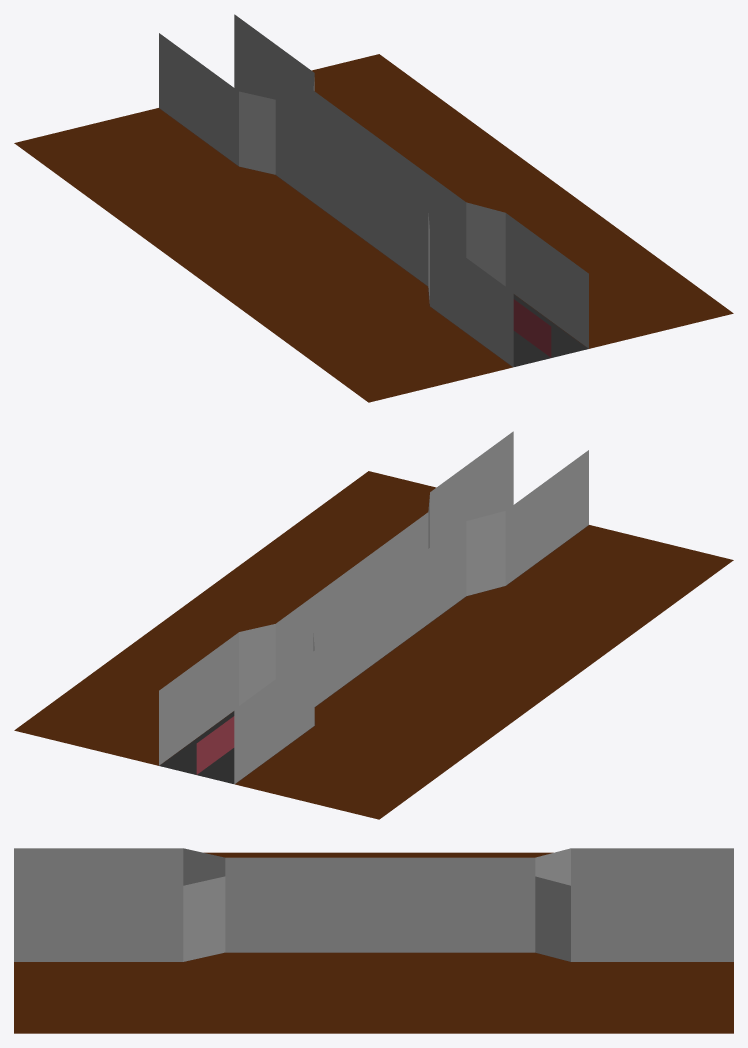
The model's file is Track_C.fbx.
The picture shows the model from 3 angles, top to bottom: view 1: azimuth 30°, elevation 25°; view 2: azimuth 150°, elevation 25°; view 3: azimuth 270°, elevation 25°; orthographic projection.
Visible parts, largest first — view 1: Sand_C, InvisibleWall_C, Road_C, AI_C; view 2: Sand_C, InvisibleWall_C, Road_C, AI_C; view 3: InvisibleWall_C, Sand_C.
Part boxes in pixels (<box>): Sand_C: <box>14,54,733,402</box>; InvisibleWall_C: <box>159,14,588,366</box>; Road_C: <box>513,294,588,366</box>; AI_C: <box>513,299,551,357</box>; Sand_C: <box>14,471,733,819</box>; InvisibleWall_C: <box>159,431,588,783</box>; Road_C: <box>159,711,234,783</box>; AI_C: <box>196,716,234,774</box>; InvisibleWall_C: <box>14,848,733,961</box>; Sand_C: <box>14,852,733,1033</box>.
Size of the model in its own units: 84.51 by 16.6 by 142.
